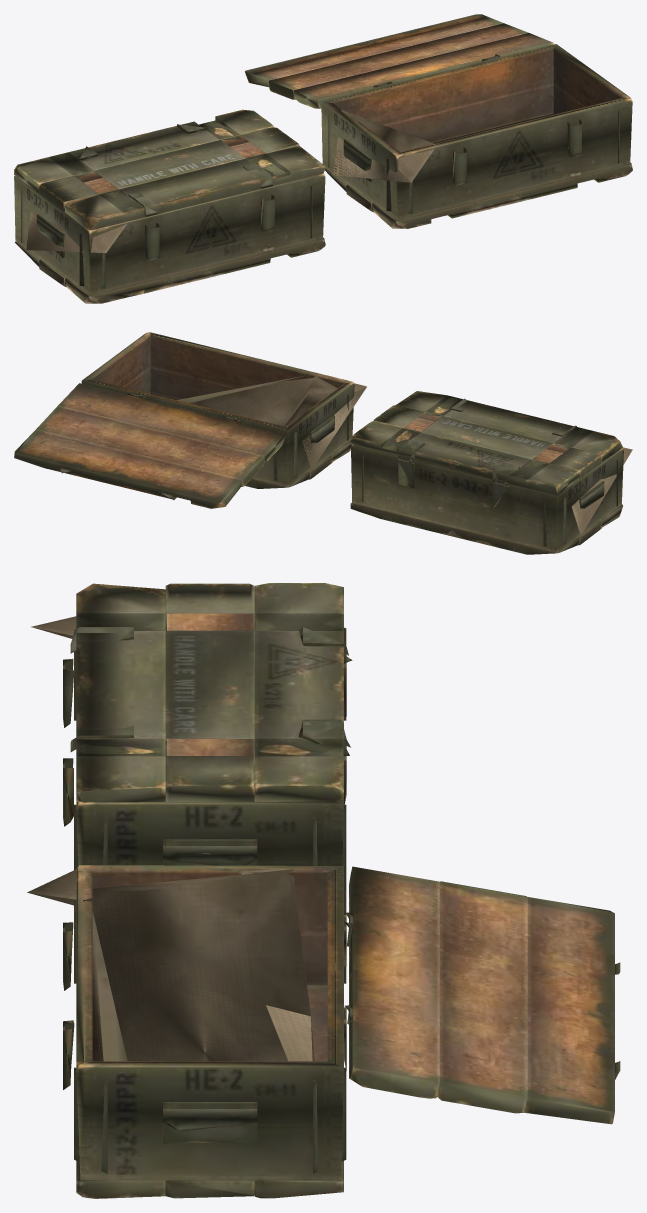
The model's file is old_military_crate.glb.
3 renders of one model, top to bottom at view 1: azimuth 30°, elevation 25°; view 2: azimuth 150°, elevation 25°; view 3: azimuth 270°, elevation 25°, orthographic. The views are drawn at different scales.
Parts seen in each view (by area): view 1: old_military_crate_lid_a; view 2: old_military_crate_lid_a; view 3: old_military_crate_lid_a.
Part boxes in pixels (<box>): old_military_crate_lid_a: <box>14,14,632,303</box>; old_military_crate_lid_a: <box>14,332,632,554</box>; old_military_crate_lid_a: <box>27,583,620,1198</box>.
Size of the model in its own units: 1.81 by 0.2734 by 0.9539.
Materials: 1 (1 with a texture image).
